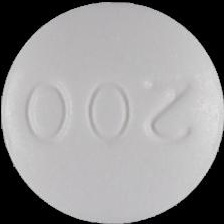31722-200: (0, 0, 224, 224)
